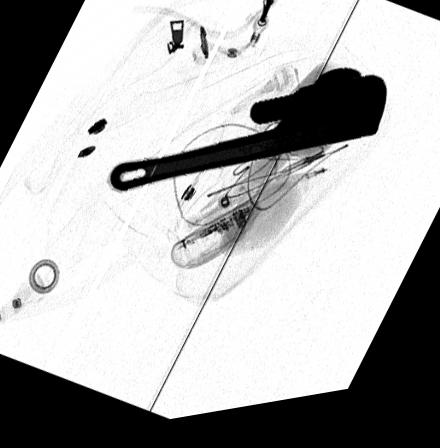Wrench: (108, 80, 390, 194)
